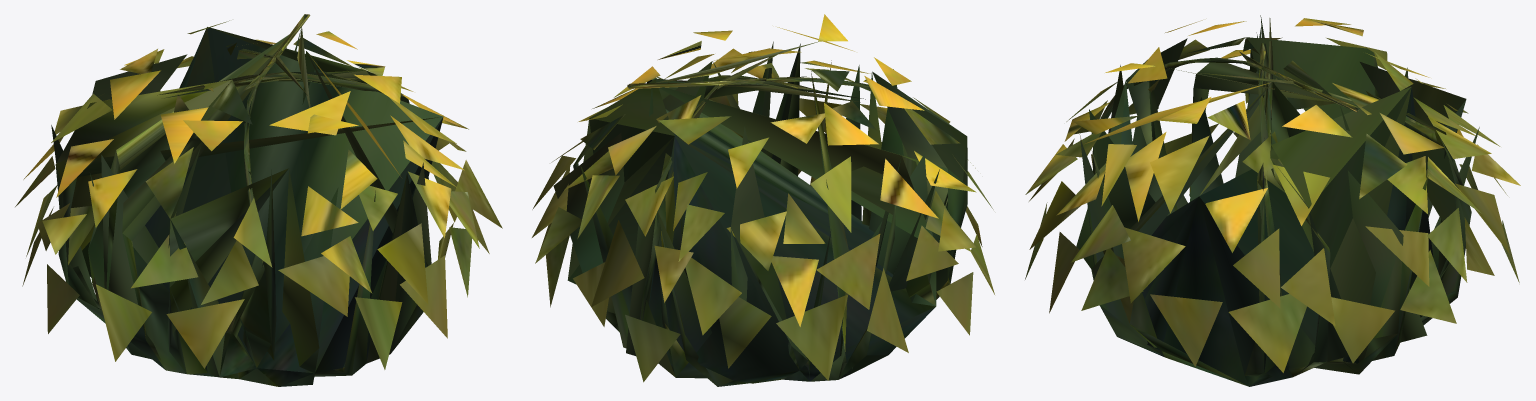
The model's file is bush.glb.
3 views of the same model, side by side, from view 1: azimuth 30°, elevation 25°; view 2: azimuth 150°, elevation 25°; view 3: azimuth 270°, elevation 25° (orthographic). The views are drawn at different scales.
Parts seen in each view (by area): view 1: BUSH; view 2: BUSH; view 3: BUSH.
Part boxes in pixels (x1=…): BUSH: x1=15, y1=14, x2=502, y2=386; BUSH: x1=532, y1=14, x2=994, y2=386; BUSH: x1=1025, y1=15, x2=1520, y2=386.
Bounding box in the file's own units: 1.85 × 1.29 × 1.85.
Materials: 1 (1 with a texture image).
